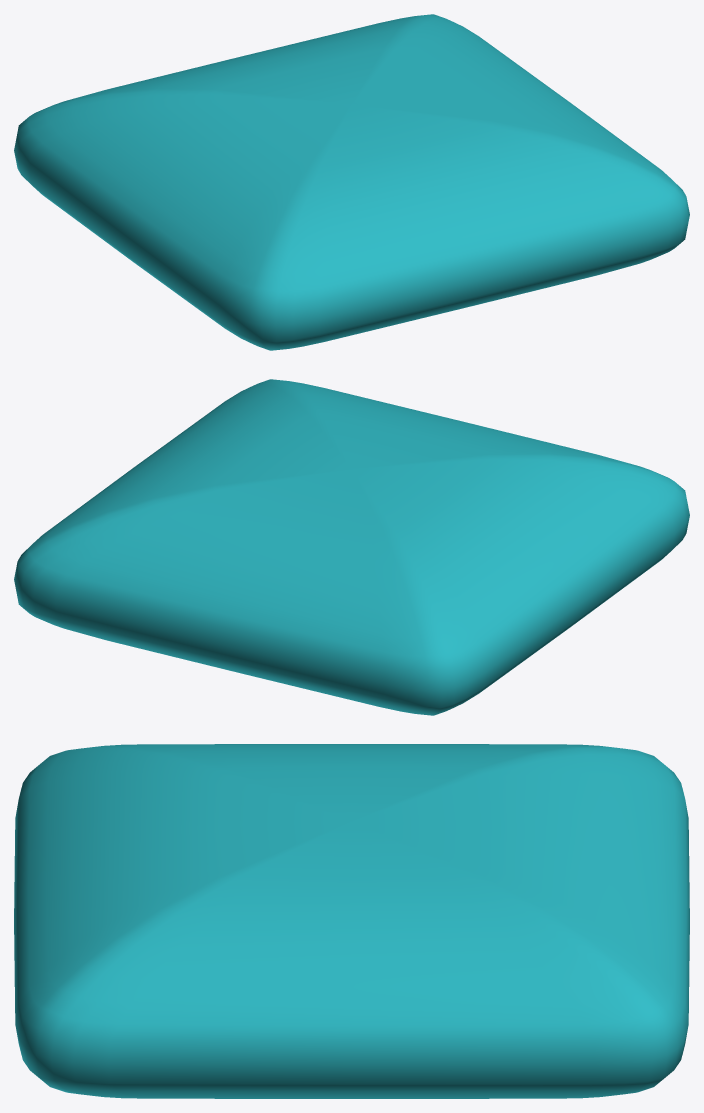
The model's file is almofada_chao_turquesa.glb.
3 renders of one model, top to bottom at view 1: azimuth 30°, elevation 25°; view 2: azimuth 150°, elevation 25°; view 3: azimuth 270°, elevation 25°, orthographic. The views are drawn at different scales.
Parts seen in each view (by area): view 1: almofada_chao_turquesa; view 2: almofada_chao_turquesa; view 3: almofada_chao_turquesa.
Part boxes in pixels (x1,y1,x2,y2): almofada_chao_turquesa: (14,14,689,350); almofada_chao_turquesa: (14,379,689,715); almofada_chao_turquesa: (14,744,689,1098).
Bounding box in the file's own units: 0.52 × 0.17 × 0.52.
Materials: 1 (1 with a texture image).
